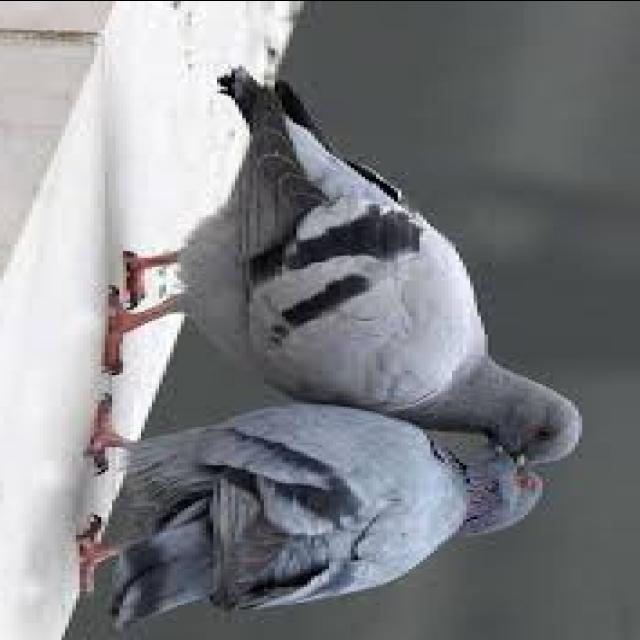pigeon: (78, 402, 584, 608)
